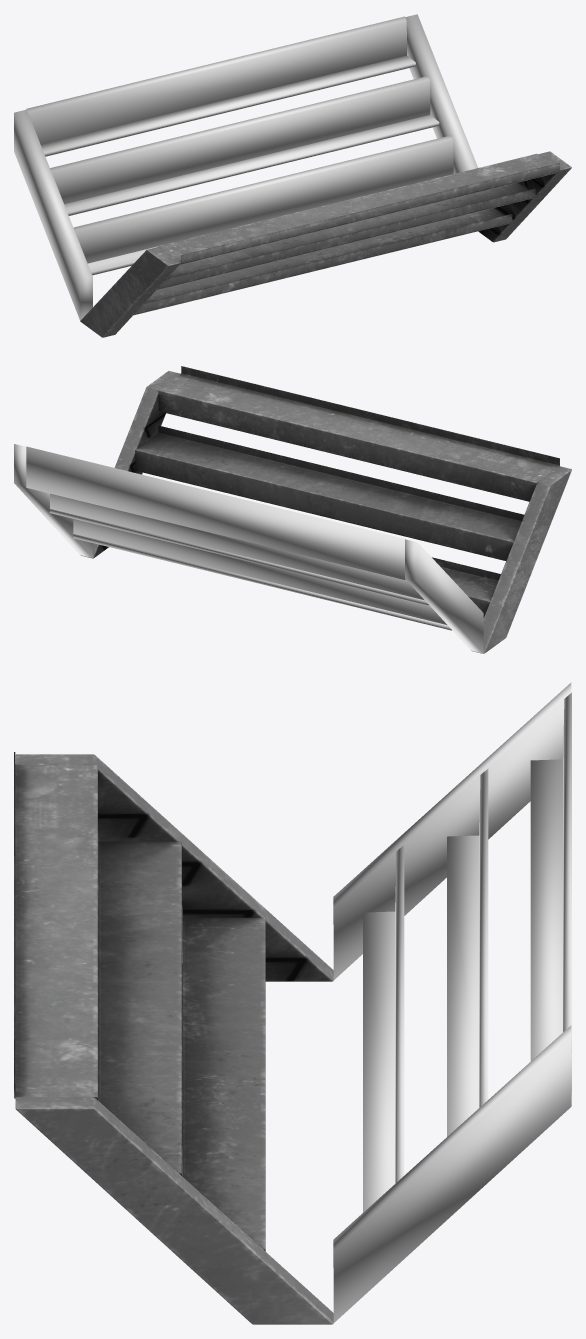
The model's file is SM_Stairs_Small_Metal.fbx.
3 renders of one model, top to bottom at view 1: azimuth 30°, elevation 25°; view 2: azimuth 150°, elevation 25°; view 3: azimuth 270°, elevation 25°, orthographic. The views are drawn at different scales.
Parts seen in each view (by area): view 1: SM_Stairs_Small_Metal_ConvexHulls, SM_Stairs_Small_Metal; view 2: SM_Stairs_Small_Metal, SM_Stairs_Small_Metal_ConvexHulls; view 3: SM_Stairs_Small_Metal, SM_Stairs_Small_Metal_ConvexHulls.
Boxes of the visible parts, x1,y1,x2,y2 form: SM_Stairs_Small_Metal_ConvexHulls: [14, 14, 477, 320]; SM_Stairs_Small_Metal: [80, 151, 571, 337]; SM_Stairs_Small_Metal: [80, 366, 571, 653]; SM_Stairs_Small_Metal_ConvexHulls: [14, 444, 483, 653]; SM_Stairs_Small_Metal: [14, 752, 333, 1324]; SM_Stairs_Small_Metal_ConvexHulls: [333, 682, 571, 1322].
Bounding box in the file's own units: 1.5 × 0.5704 × 0.9974.
